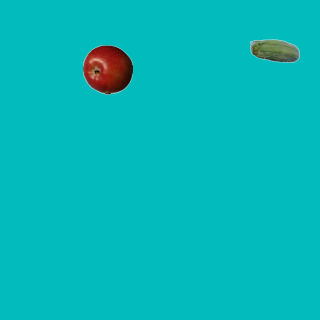Apple Braeburn: (82, 44, 132, 94)
Corn Husk: (249, 27, 299, 77)
